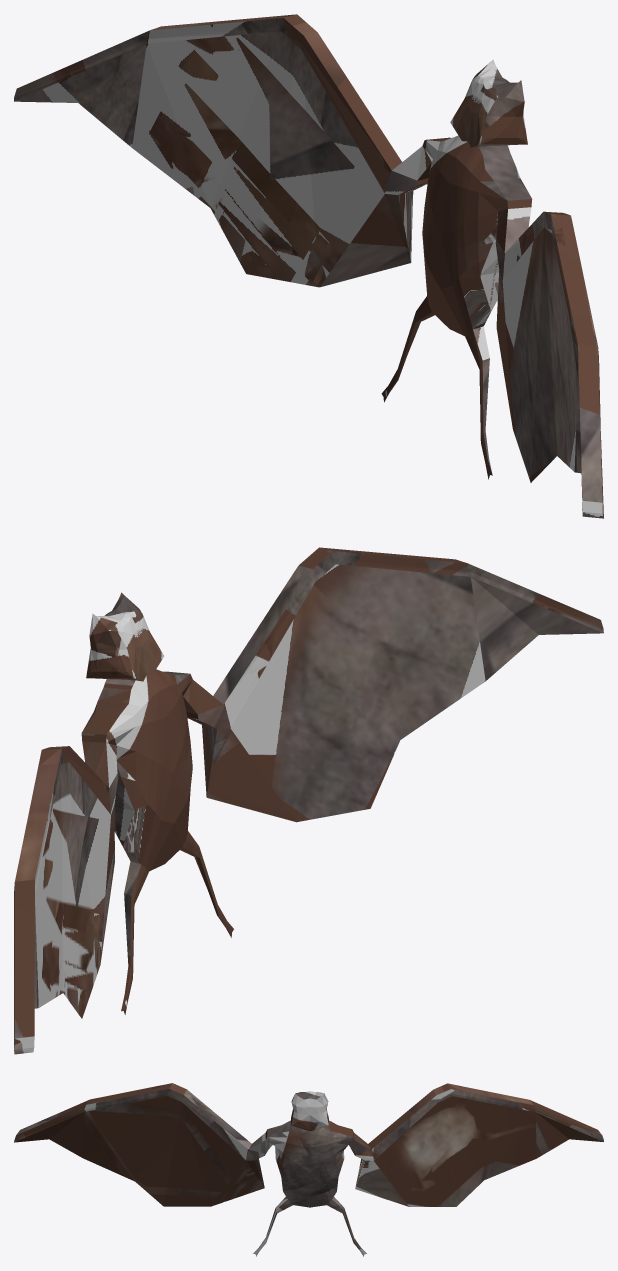
The model's file is Enemigo15.obj.
3 views of the same model, one above another, from view 1: azimuth 30°, elevation 25°; view 2: azimuth 150°, elevation 25°; view 3: azimuth 270°, elevation 25° (orthographic). The views are drawn at different scales.
Visible parts, largest first — view 1: Plano; view 2: Plano; view 3: Plano.
Part boxes in pixels (x1=…): Plano: x1=14, y1=14, x2=603, y2=518; Plano: x1=14, y1=547, x2=603, y2=1054; Plano: x1=14, y1=1083, x2=603, y2=1256.
Bounding box in the file's own units: 0.476 × 0.7437 × 2.19.
1 material, 1 textured.
